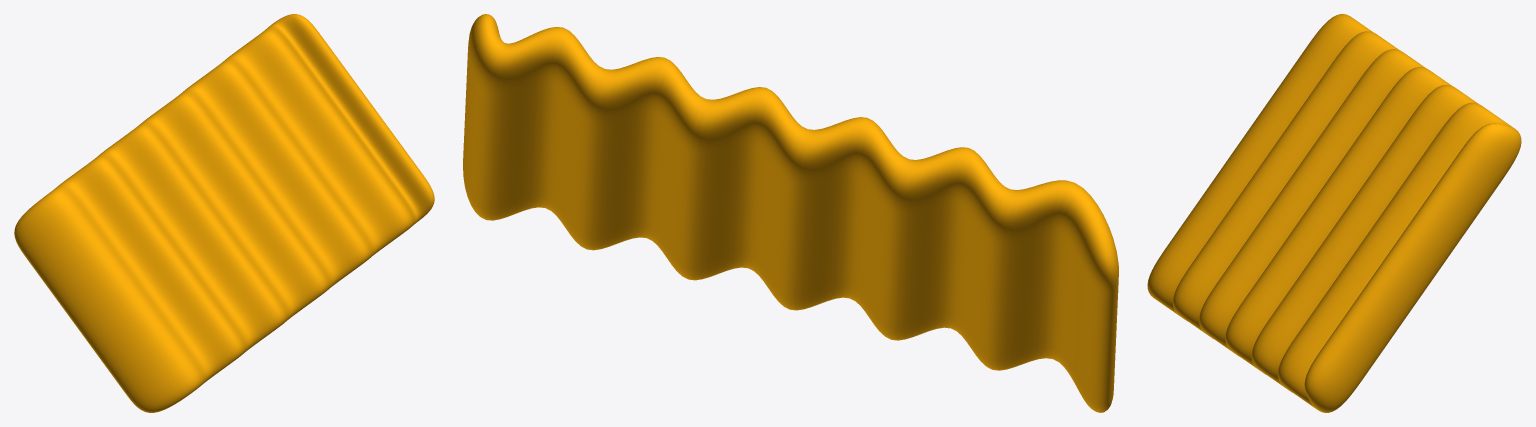
The model's file is waving-plane-abstract-animated-3d-icon-772525492989.glb.
3 views of the same model, side by side, from view 1: azimuth 30°, elevation 25°; view 2: azimuth 150°, elevation 25°; view 3: azimuth 270°, elevation 25° (orthographic). The views are drawn at different scales.
Parts seen in each view (by area): view 1: Waving Plane; view 2: Waving Plane; view 3: Waving Plane.
Boxes of the visible parts, x1,y1,x2,y2 form: Waving Plane: (14,14,434,412); Waving Plane: (463,14,1118,412); Waving Plane: (1147,14,1521,412).
Size of the model in its own units: 2.24 by 1.35 by 1.29.
